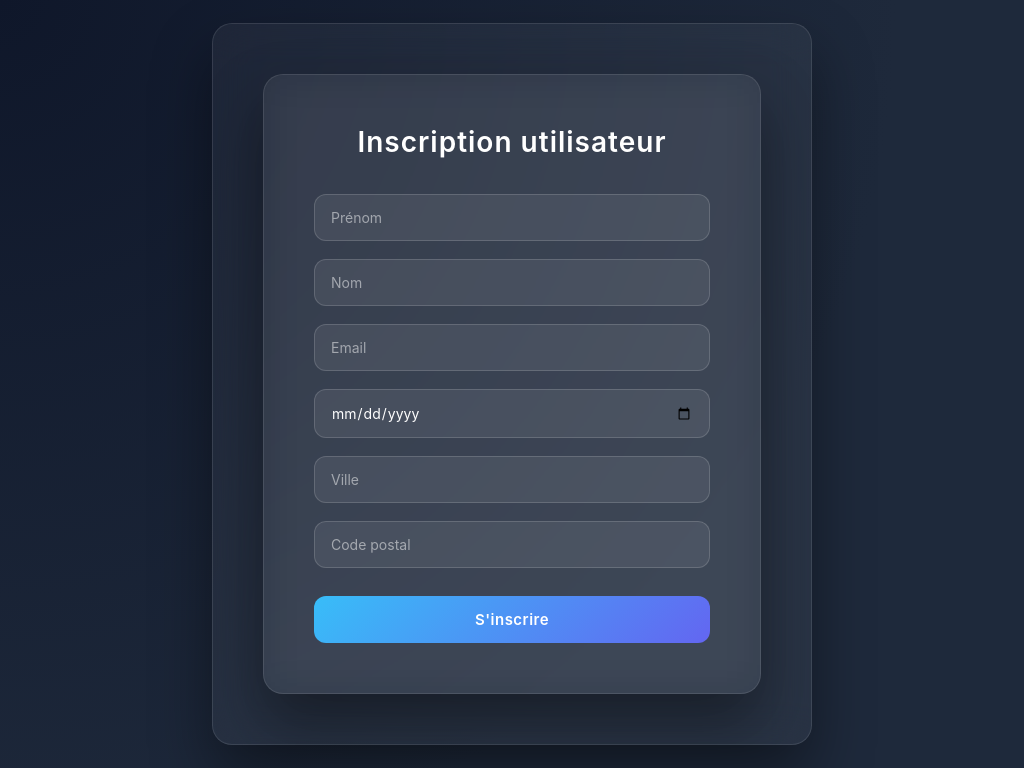
Test case: RegisterForm › affiche erreur si mineur
This screenshot has width=1024, height=768.
Type "John" into the field with placeholder "Prénom" at (512, 218), box [314,194,710,241]
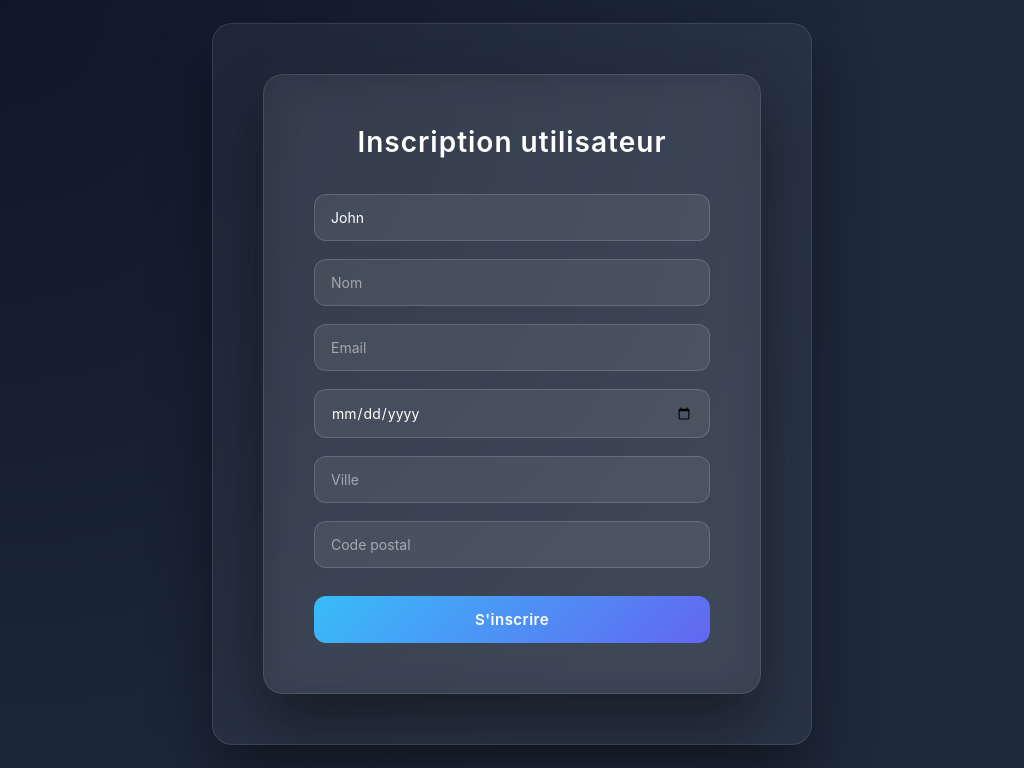
Type "Doe" into the field with placeholder "Nom" at (512, 282), box [314,259,710,306]
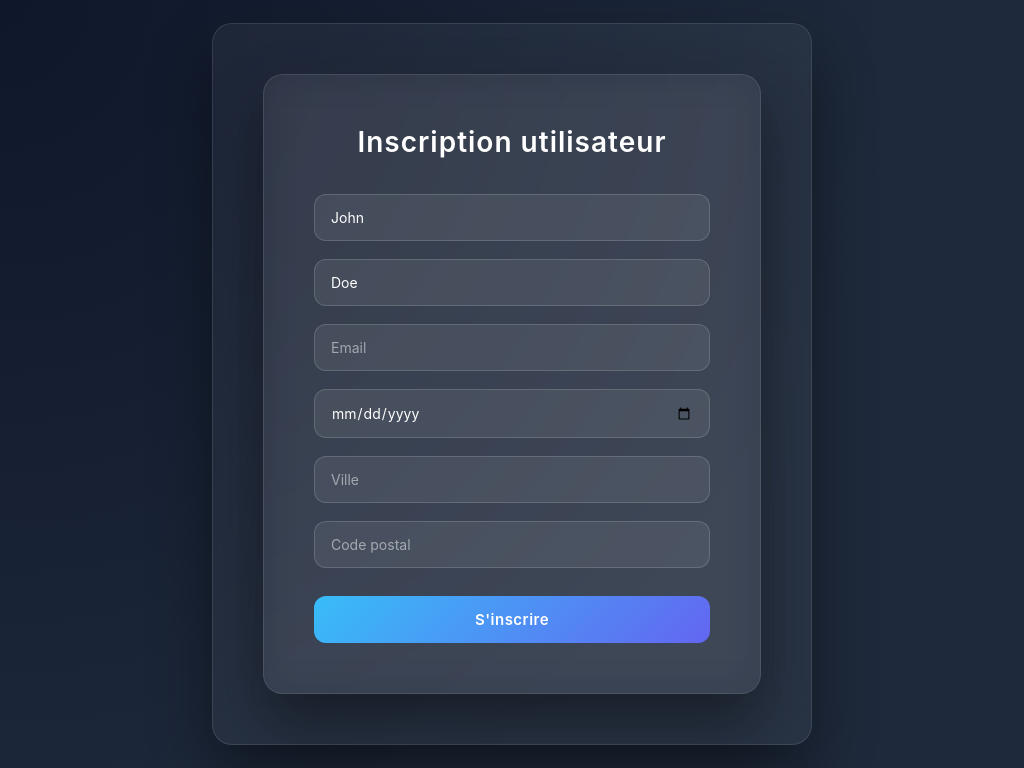
Type "john@mail.com" into the field with placeholder "Email" at (512, 348), box [314,324,710,371]
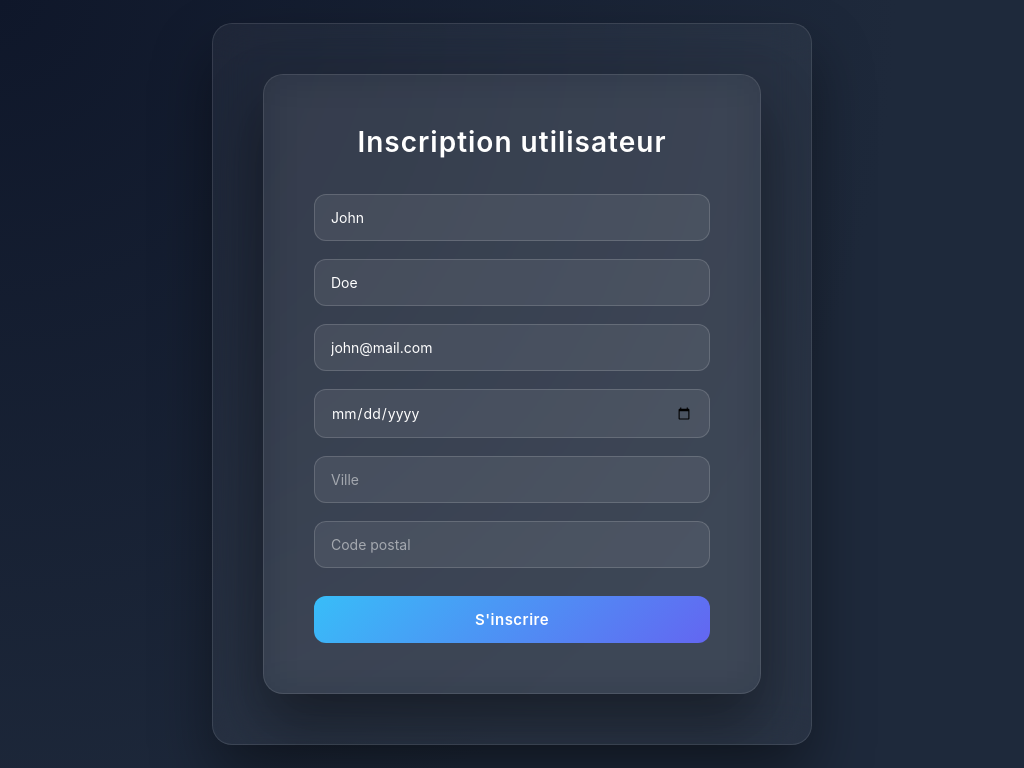
Type "2020-01-01" into the date field with test id "birthDate" at (512, 414), box [314,389,710,438]
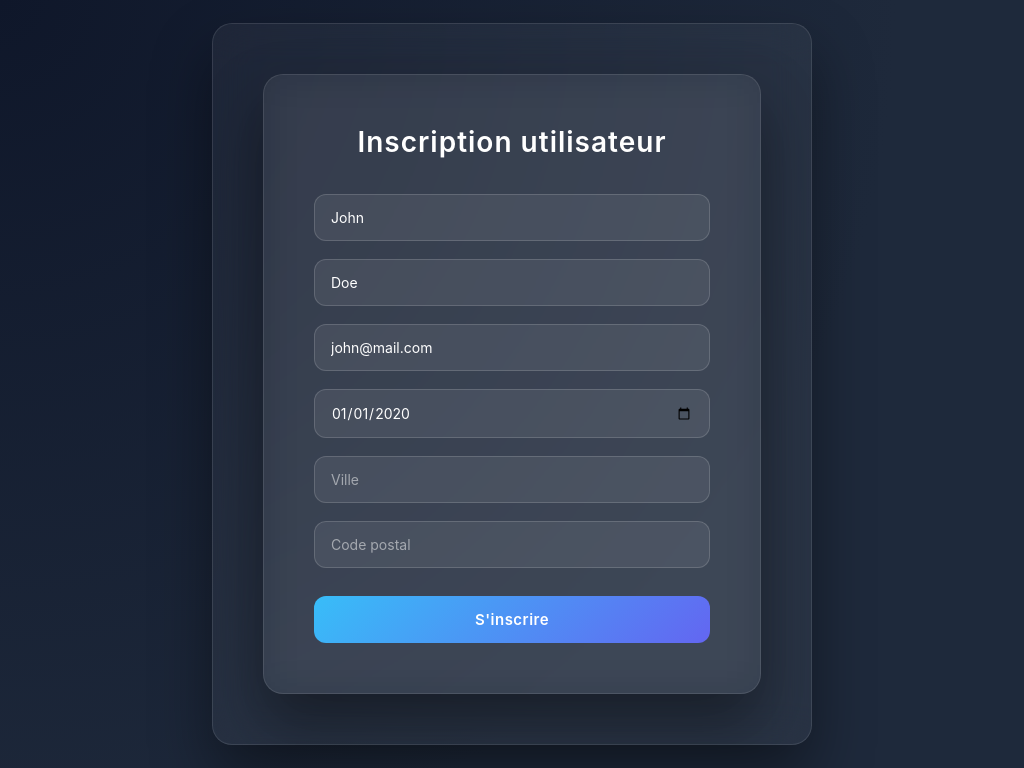
Click the button at (512, 620), box [314,596,710,643]
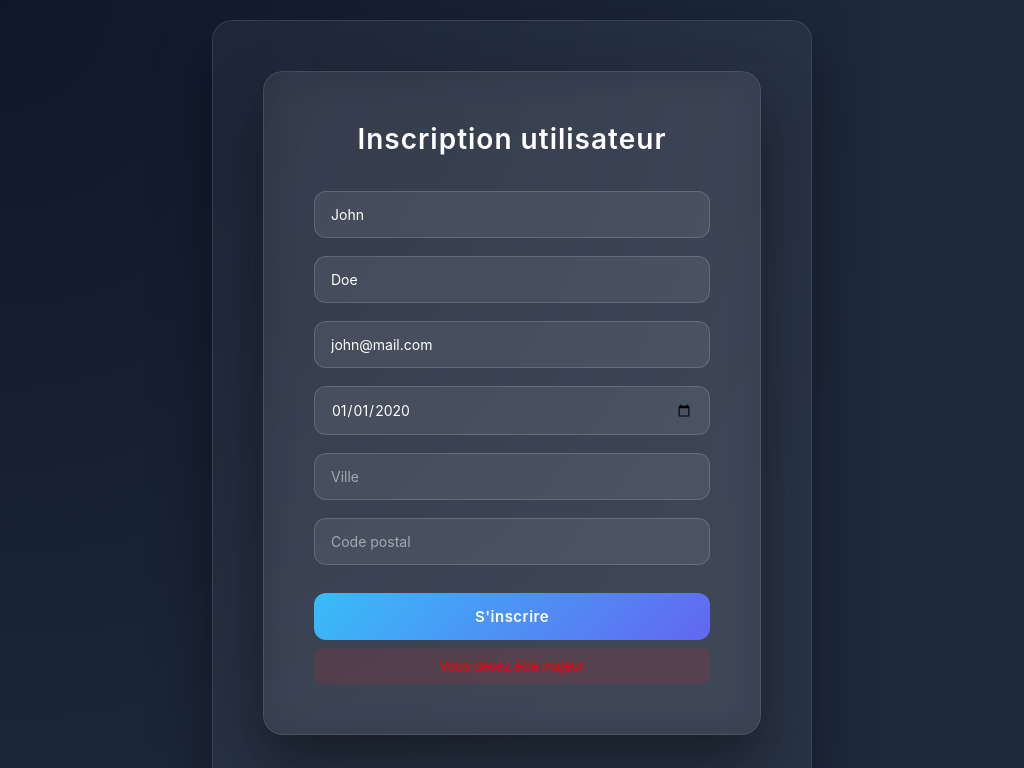
Expected: the text with test id "error" reads "Vous devez être majeur", [440,658,584,674]
